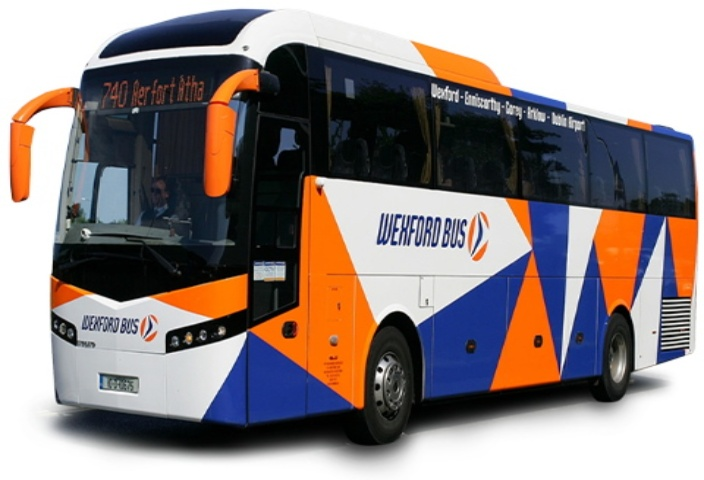bus: (17, 11, 704, 439)
